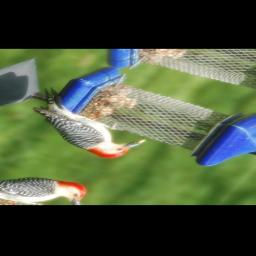Woodpecker: (0, 82, 175, 165)
